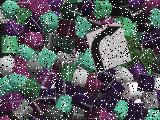Right: (86, 20, 132, 74)
